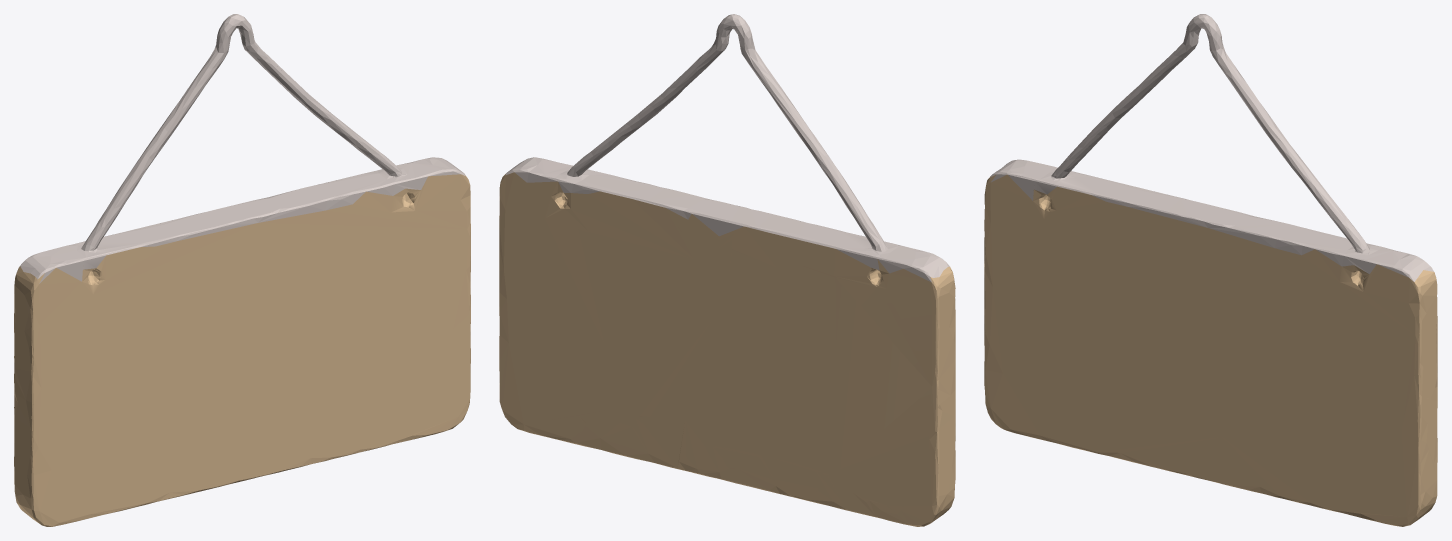
The model's file is PROP_05_game.glb.
The picture shows the model from 3 angles, left to right: view 1: azimuth 30°, elevation 25°; view 2: azimuth 150°, elevation 25°; view 3: azimuth 330°, elevation 25°; orthographic projection.
Visible parts, largest first — view 1: PROP_05; view 2: PROP_05; view 3: PROP_05.
Part boxes in pixels (x1=…): PROP_05: x1=14, y1=14, x2=470, y2=526; PROP_05: x1=499, y1=14, x2=955, y2=526; PROP_05: x1=984, y1=14, x2=1437, y2=526.
Bounding box in the file's own units: 0.4202 × 0.42 × 0.0312.
